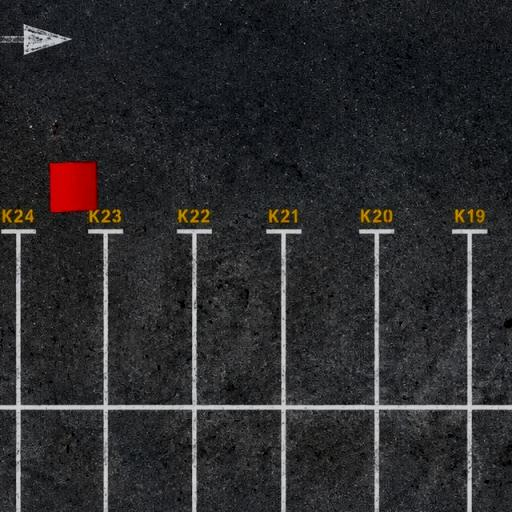RED_SQUARE: (49, 160, 98, 214)
